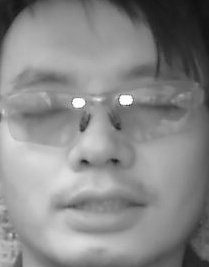glass: (113, 83, 201, 141), (6, 87, 89, 148)
mouth: (56, 184, 142, 231)
